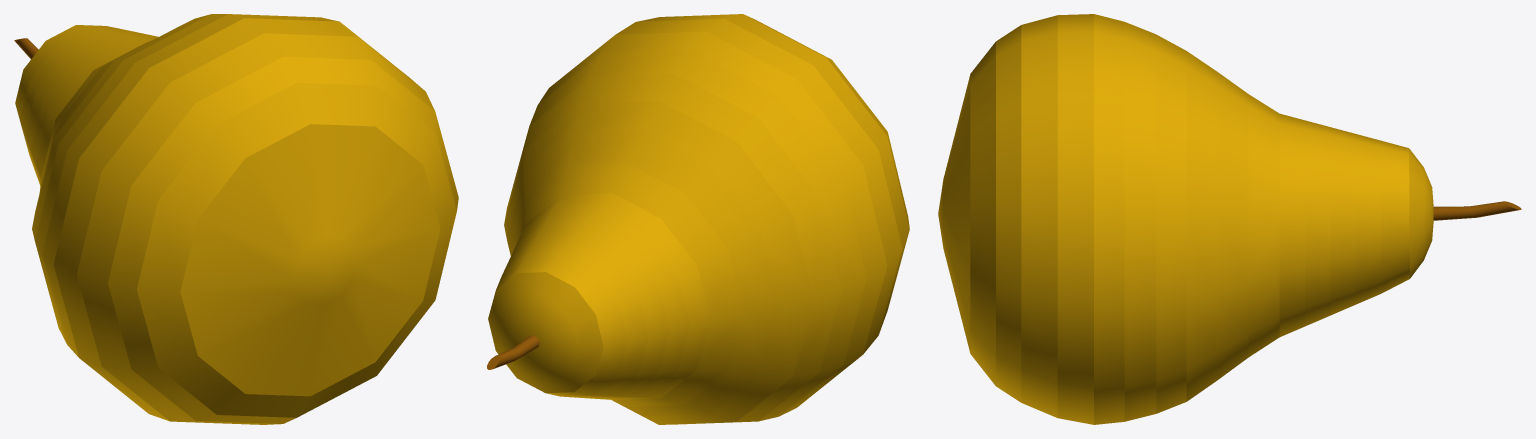
File: Pear.fbx
The picture shows the model from 3 angles, left to right: view 1: azimuth 30°, elevation 25°; view 2: azimuth 150°, elevation 25°; view 3: azimuth 270°, elevation 25°; orthographic projection. The views are drawn at different scales.
Visible parts, largest first — view 1: polySurface56; view 2: polySurface56; view 3: polySurface56.
Part boxes in pixels (x1,y1,x2,y2): polySurface56: [14, 14, 458, 424]; polySurface56: [487, 14, 909, 424]; polySurface56: [938, 14, 1521, 424].
Size of the model in its own units: 235 by 235 by 332.
